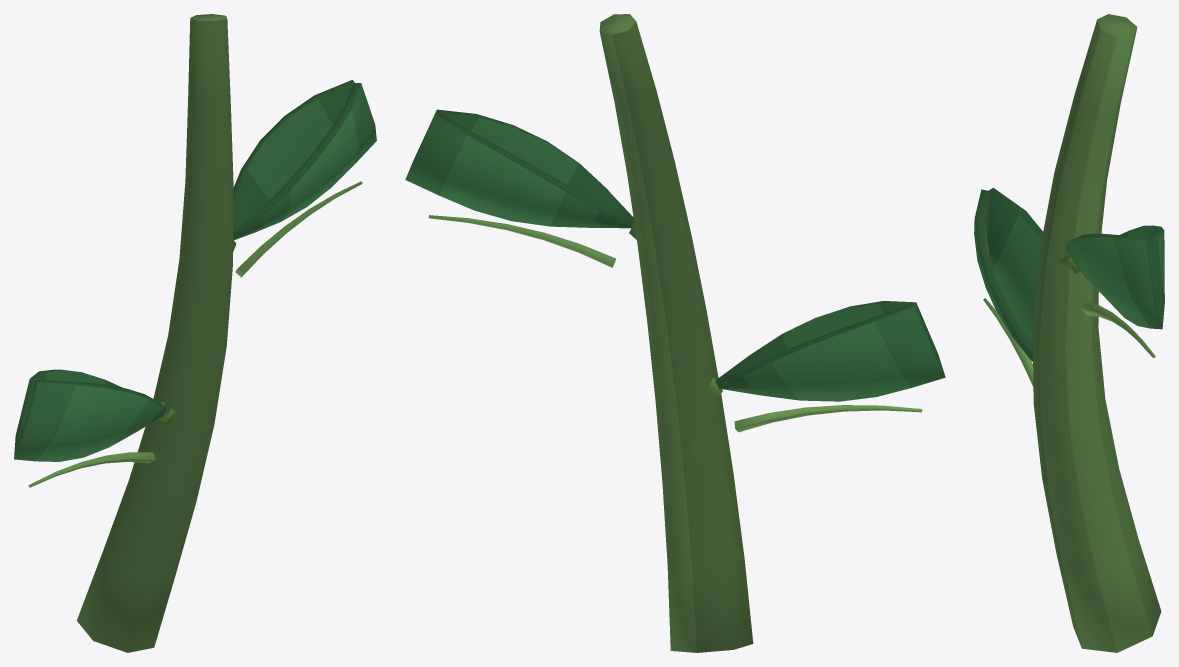
File: garden-rose-sprout-stem-2.glb
The picture shows the model from 3 angles, left to right: view 1: azimuth 30°, elevation 25°; view 2: azimuth 150°, elevation 25°; view 3: azimuth 270°, elevation 25°; orthographic projection. The views are drawn at different scales.
Visible parts, largest first — view 1: rose-sprout-stem-2; view 2: rose-sprout-stem-2; view 3: rose-sprout-stem-2.
Part boxes in pixels (x1,y1,x2,y2): rose-sprout-stem-2: (14,14,376,652); rose-sprout-stem-2: (405,14,945,652); rose-sprout-stem-2: (974,14,1164,652).
Size of the model in its own units: 0.0859 by 0.111 by 0.0288.
